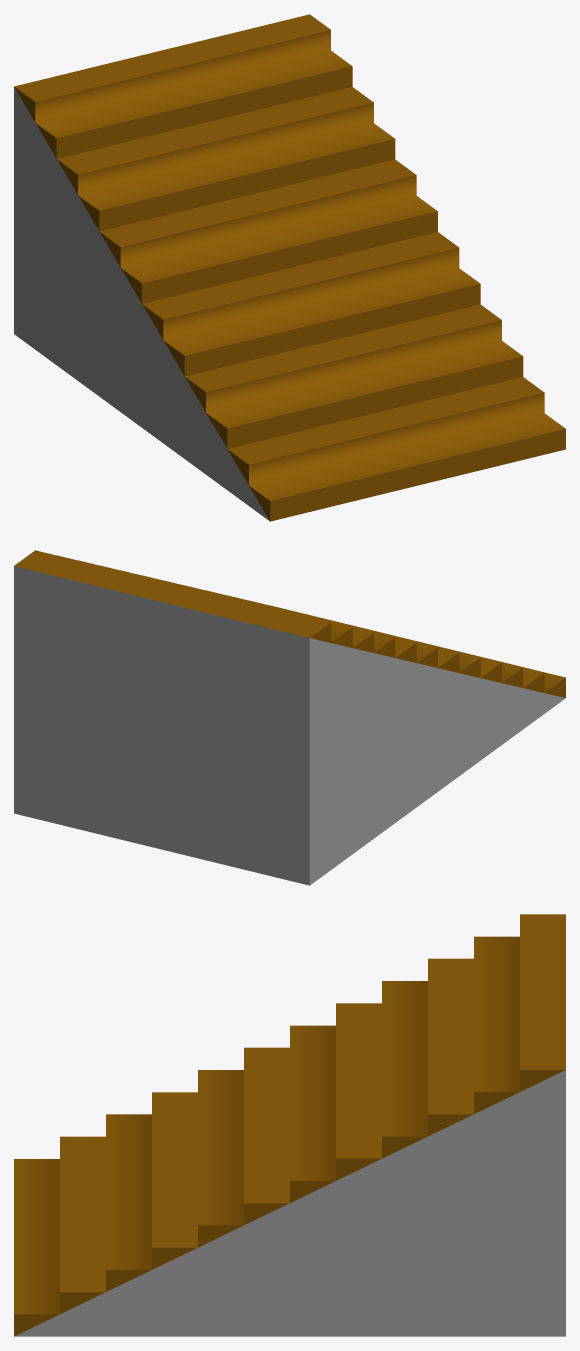
File: Stair_Half_2x3.fbx
3 views of the same model, one above another, from view 1: azimuth 30°, elevation 25°; view 2: azimuth 150°, elevation 25°; view 3: azimuth 270°, elevation 25° (orthographic). The views are drawn at different scales.
Visible parts, largest first — view 1: Stair_Half_2x3; view 2: Stair_Half_2x3; view 3: Stair_Half_2x3.
Part boxes in pixels (x1,y1,x2,y2): Stair_Half_2x3: (14,14,565,521); Stair_Half_2x3: (14,550,565,885); Stair_Half_2x3: (14,914,565,1336).
Bounding box in the file's own units: 2 × 1.6 × 3.
